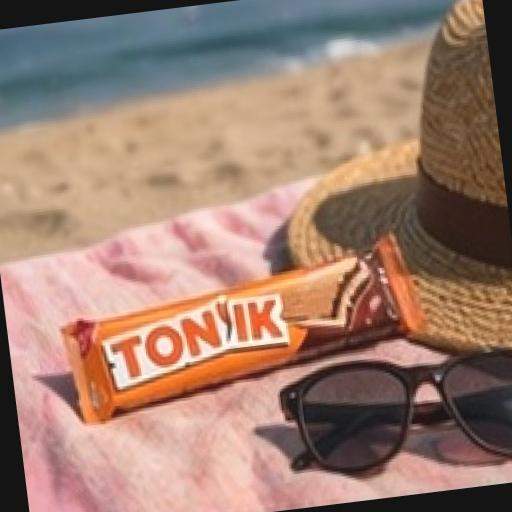tonik: (0, 169, 486, 506)
